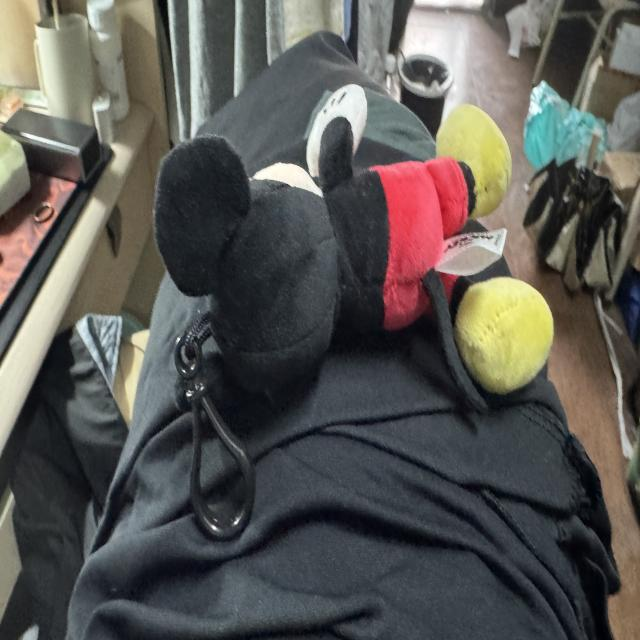mickey: (156, 101, 510, 391)
